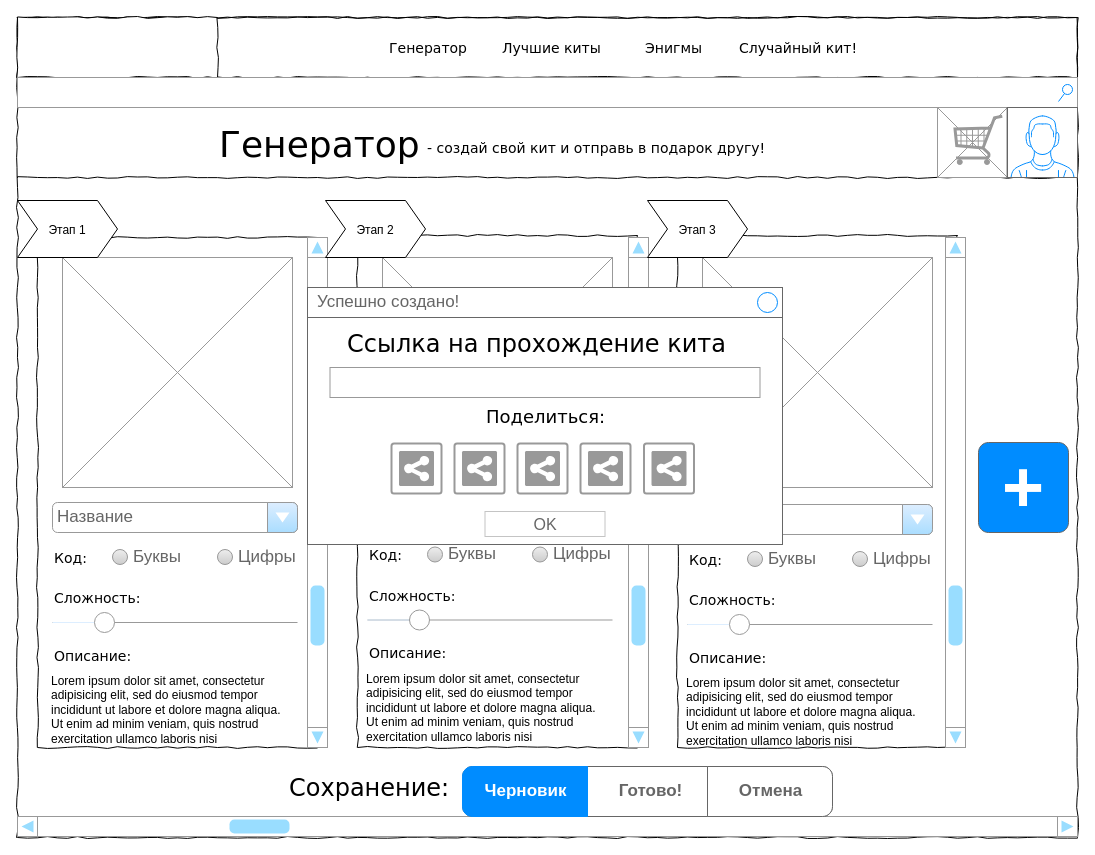
Some shapes in this 1095 by 855 pixel diagram are drawn without their labels. The box of each missing label's shape, as (x1, y1, x2, y2) in pixels:
https://ваша_ссылка...: (329, 366, 760, 398)
LOGO: (16, 16, 218, 78)
Ввести ссылку на кит...: (16, 76, 1078, 108)
